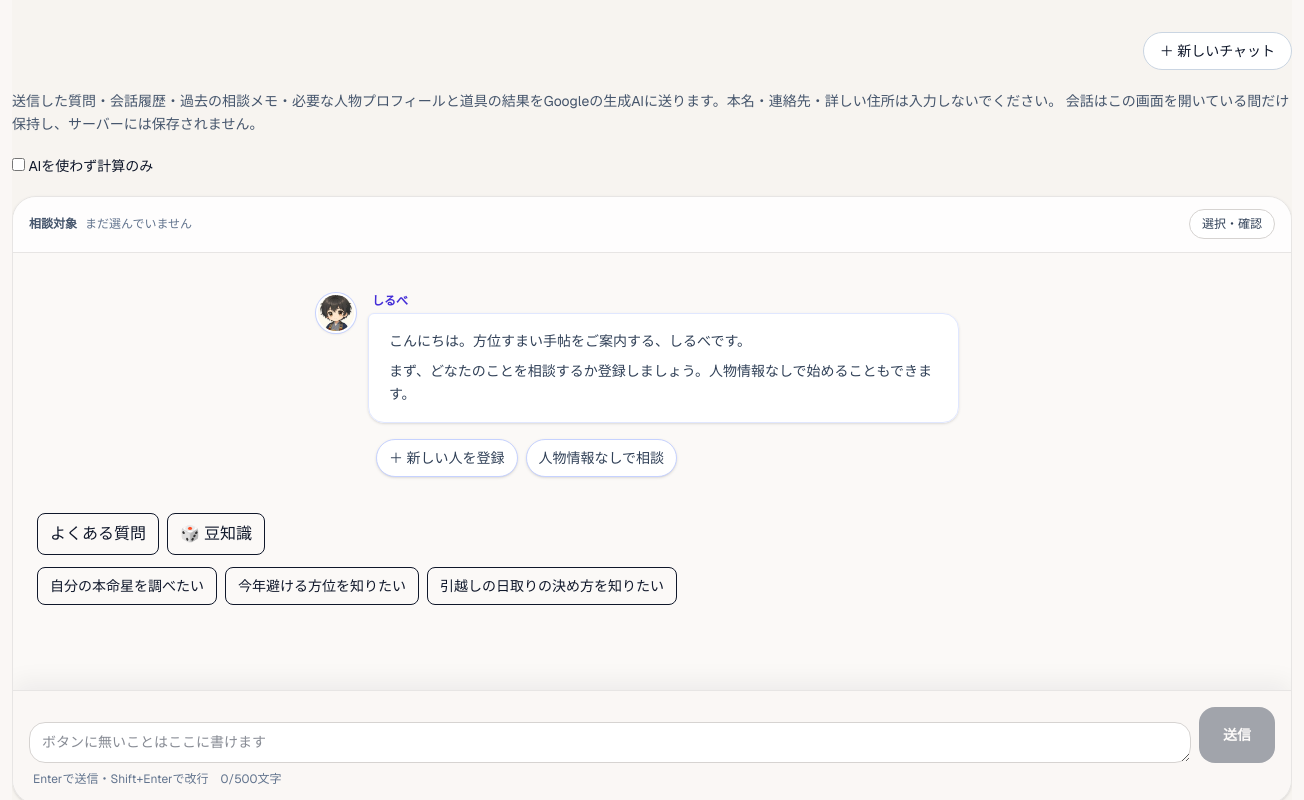
追質問では履歴を送り、Enter送信・Shift+Enter改行・IME変換を区別する
Type "東京から西はどう？" into the text box named "メッセージ" at (610, 742), box [29,722,1191,763]
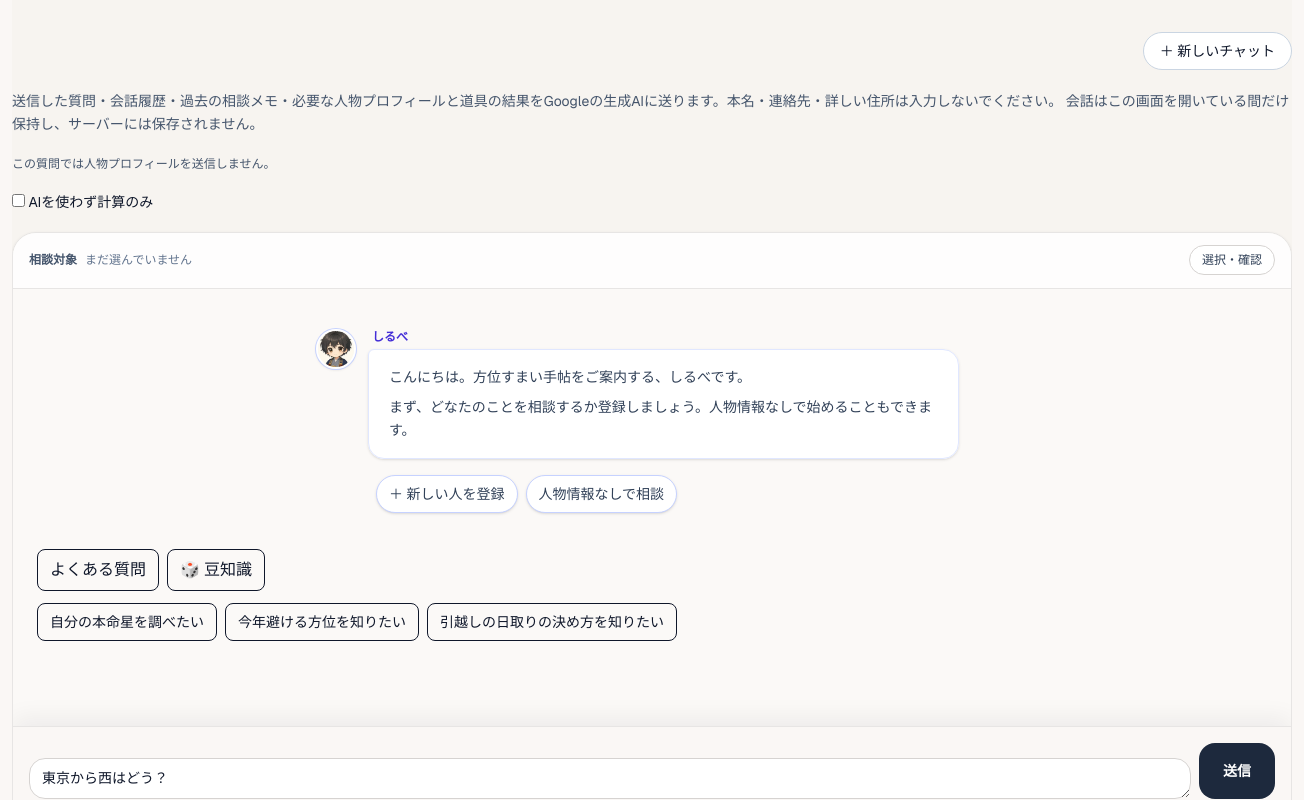
Press Enter in the text box named "メッセージ", box [29,758,1191,799]
Press Enter in the text box named "メッセージ", box [29,758,1191,799]
Press Enter in the text box named "メッセージ", box [29,758,1191,799]
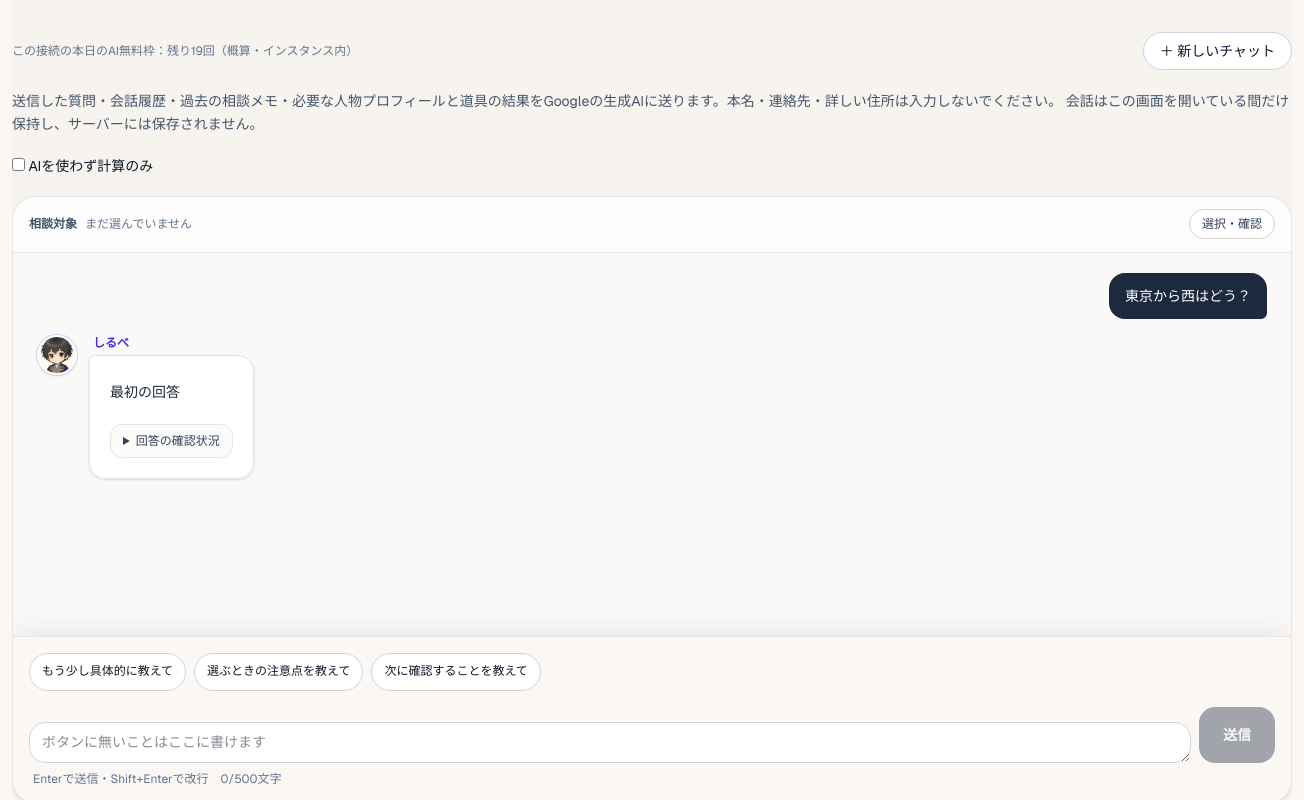
Result: the text "最初の回答" is shown at [110,383,180,401]
Result: the button "もう少し具体的に教えて" is shown at [29,653,186,690]
Type "その中で家賃が安い街は？" into the text box named "メッセージ" at (610, 742), box [29,722,1191,763]
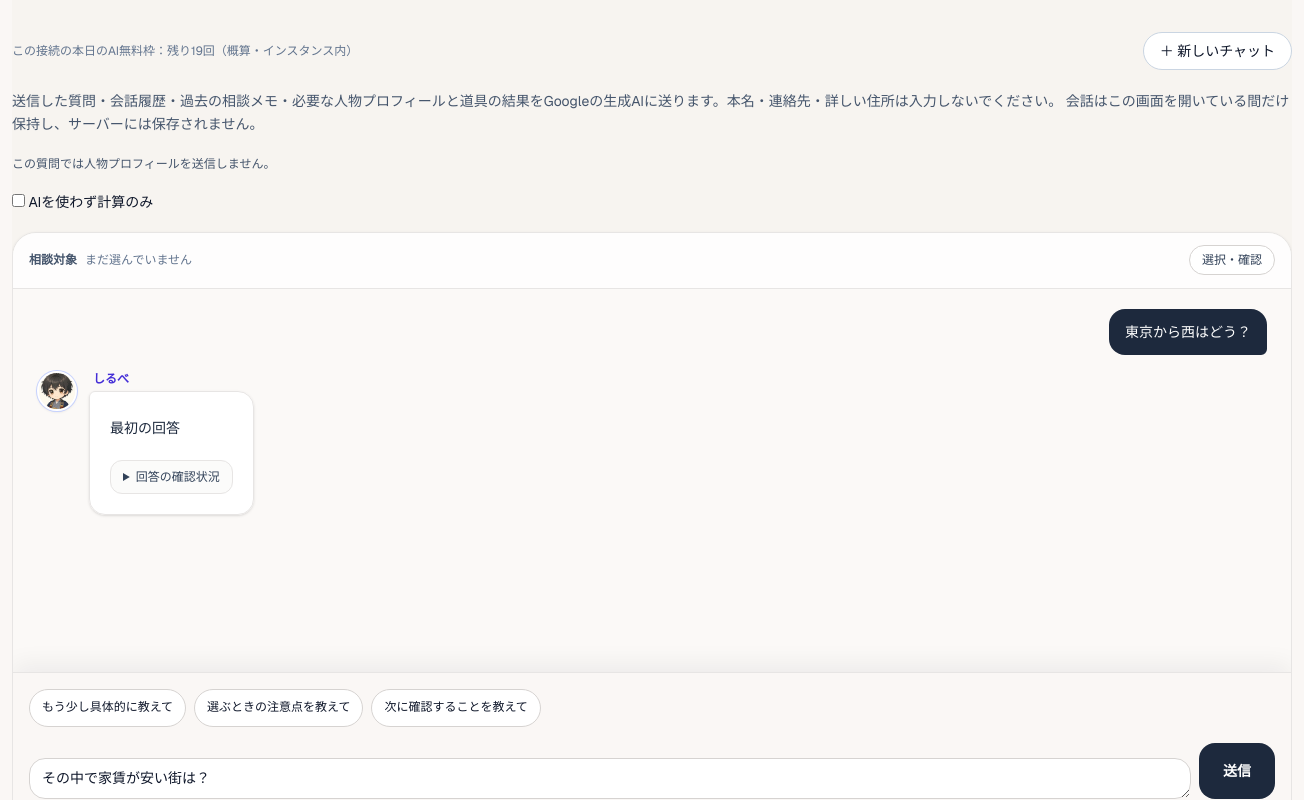
Press Enter in the text box named "メッセージ", box [29,758,1191,799]
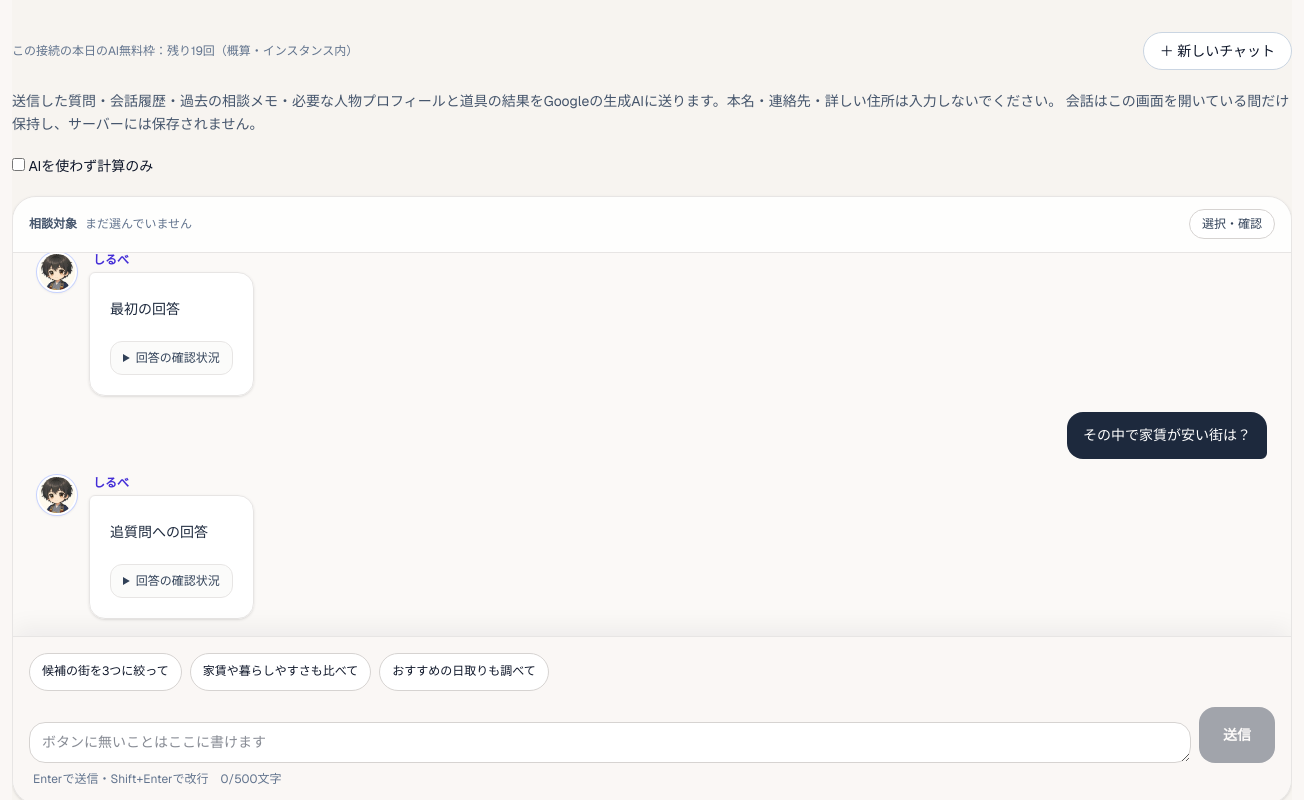
Result: the text "追質問への回答" is shown at [110,523,208,541]
